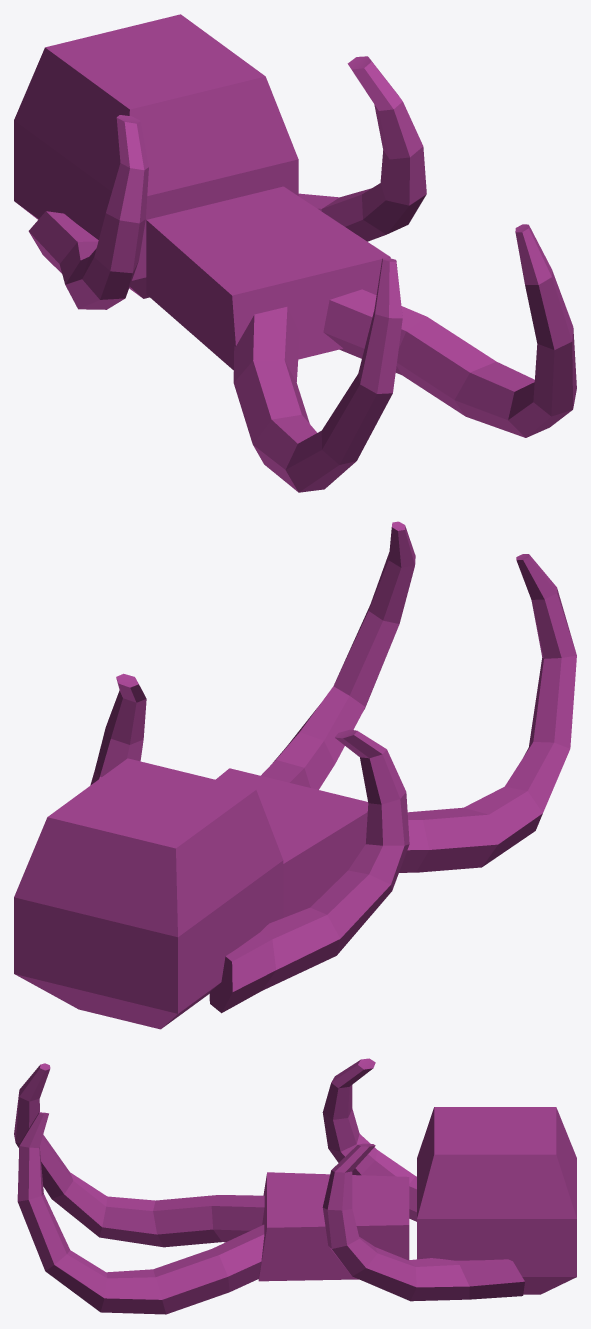
The model's file is SM_Env_Bones_05_Collision.fbx.
3 renders of one model, top to bottom at view 1: azimuth 30°, elevation 25°; view 2: azimuth 150°, elevation 25°; view 3: azimuth 270°, elevation 25°, orthographic. The views are drawn at different scales.
Visible parts, largest first — view 1: SM_Env_Bones_05_Collision; view 2: SM_Env_Bones_05_Collision; view 3: SM_Env_Bones_05_Collision.
Part boxes in pixels (x1,y1,x2,y2): SM_Env_Bones_05_Collision: (14, 14, 576, 492); SM_Env_Bones_05_Collision: (14, 521, 576, 1029); SM_Env_Bones_05_Collision: (14, 1058, 576, 1314).
Bounding box in the file's own units: 225 × 170 × 466.
